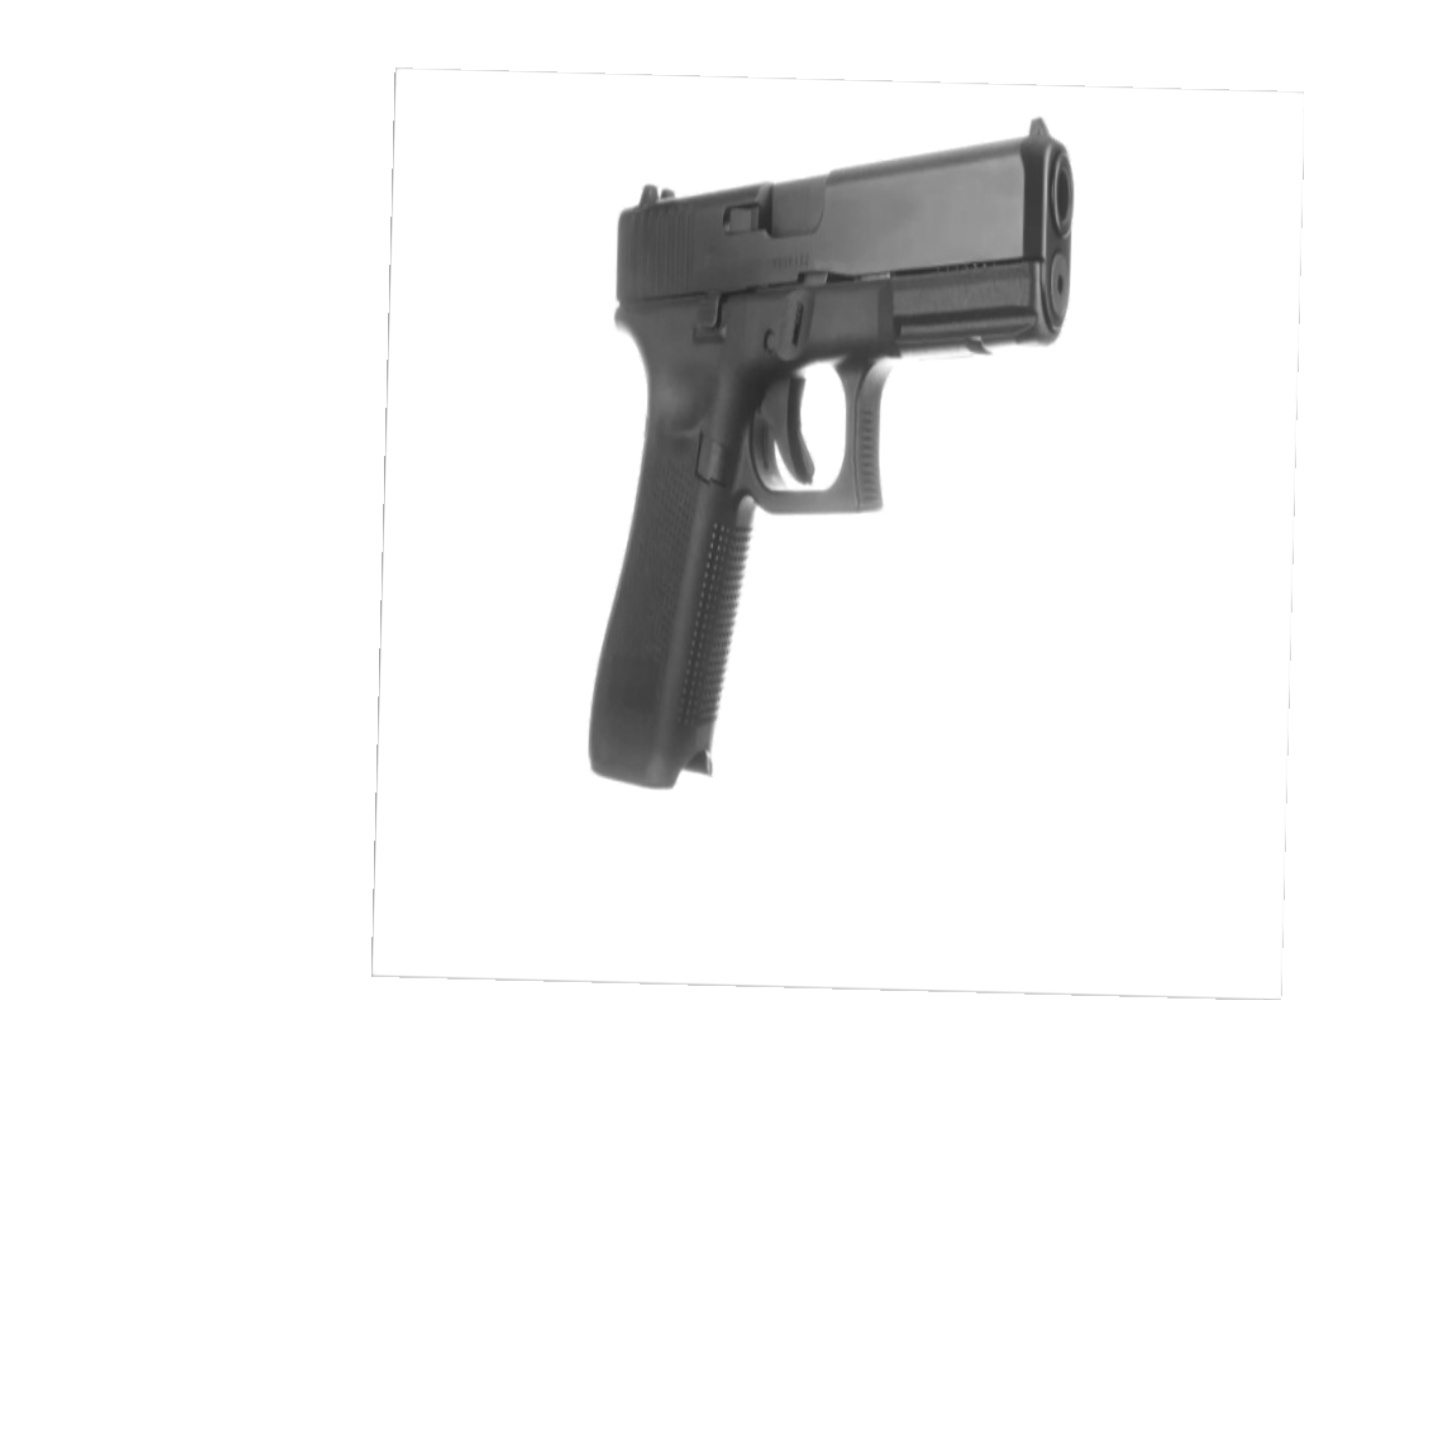gun: (575, 112, 1082, 812)
